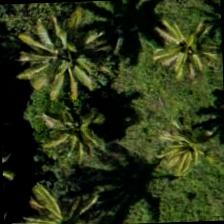Kelapa_Sawit: (27, 18, 120, 111), (20, 81, 113, 174), (136, 104, 223, 199), (143, 0, 223, 92), (29, 178, 123, 223)
